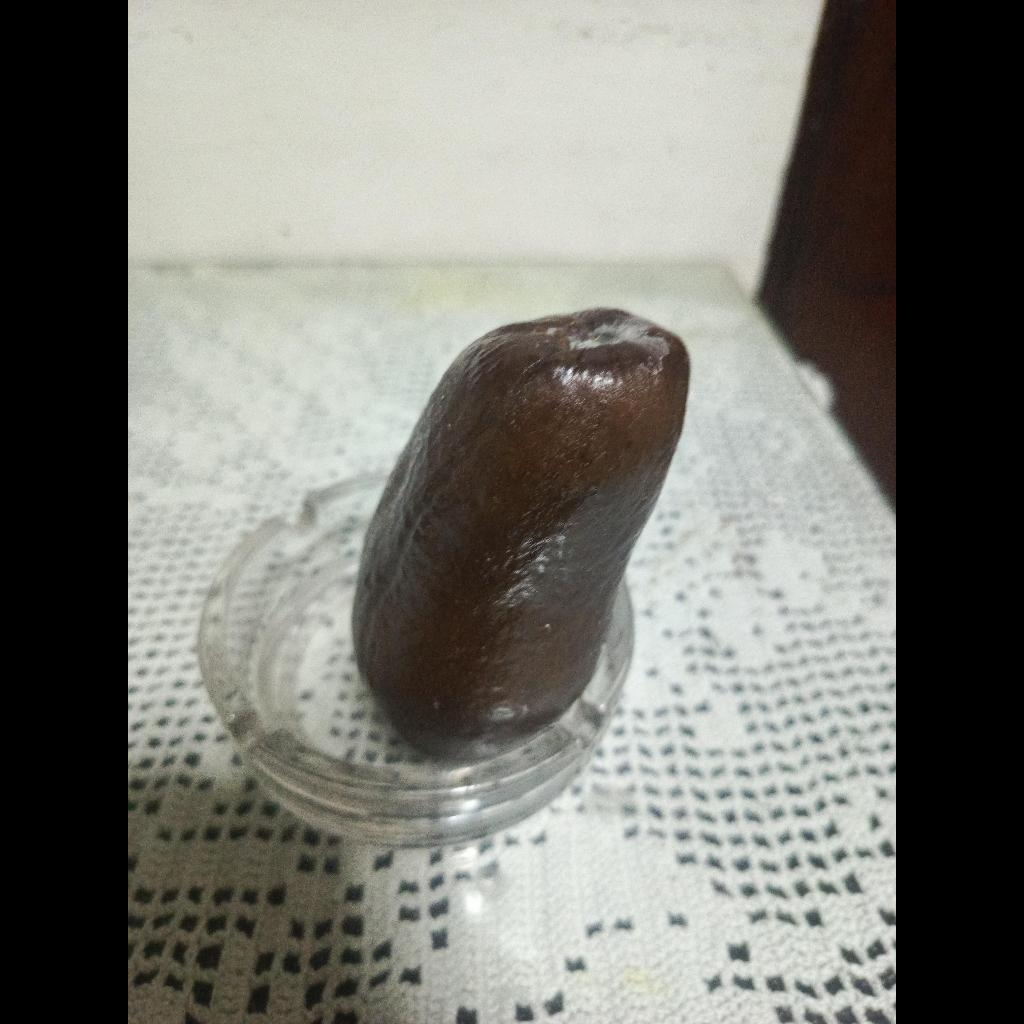stem end rot: (353, 308, 689, 759)
